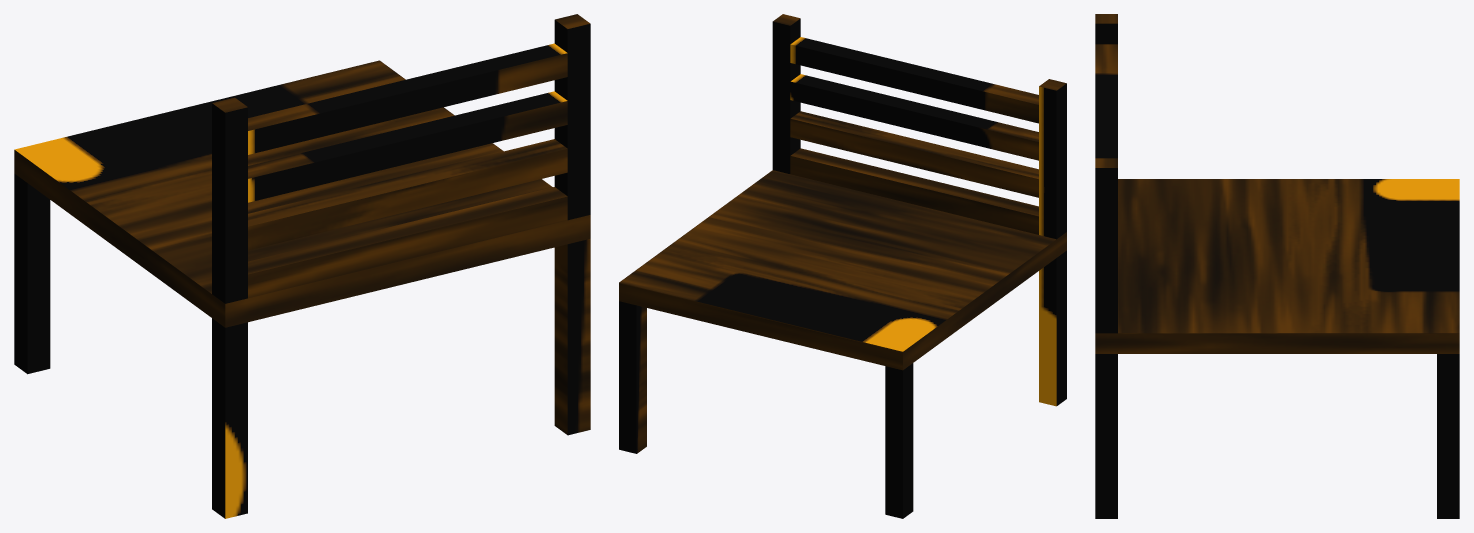
File: Chair.obj
3 renders of one model, left to right at view 1: azimuth 30°, elevation 25°; view 2: azimuth 150°, elevation 25°; view 3: azimuth 270°, elevation 25°, orthographic. The views are drawn at different scales.
Parts seen in each view (by area): view 1: Chair; view 2: Chair; view 3: Chair.
Boxes of the visible parts, x1,y1,x2,y2 form: Chair: (14,14,590,518); Chair: (619,14,1066,518); Chair: (1095,14,1459,518).
Bounding box in the file's own units: 1 × 1.06 × 1.
